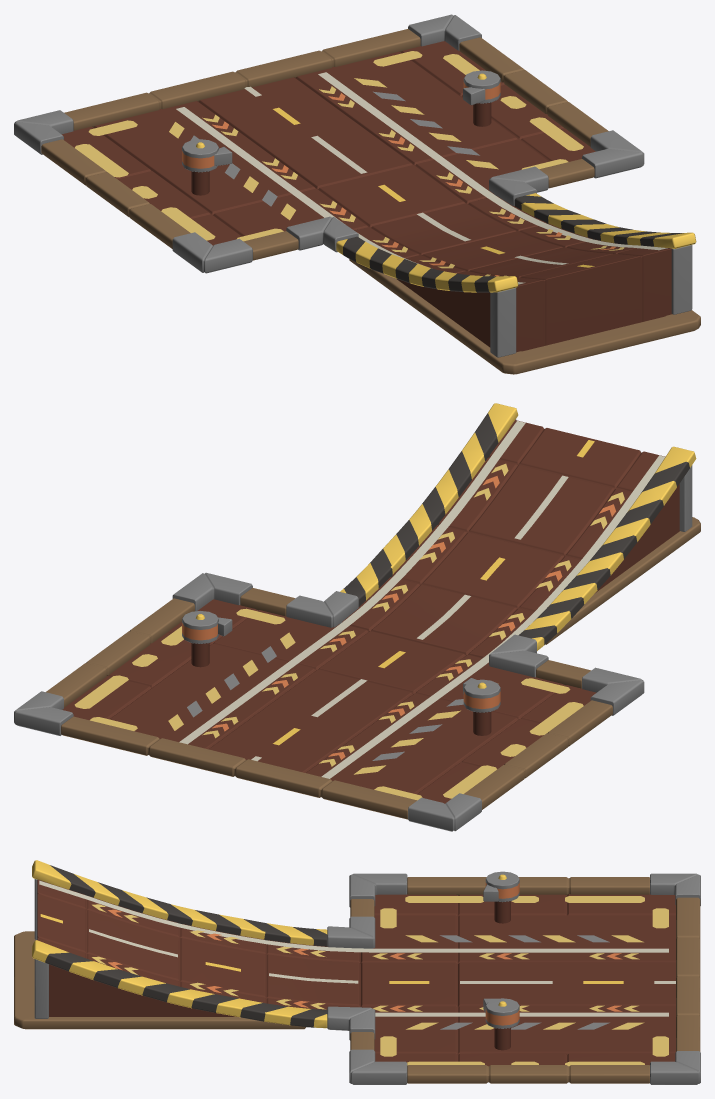
File: Launcher3.fbx
3 renders of one model, top to bottom at view 1: azimuth 30°, elevation 25°; view 2: azimuth 150°, elevation 25°; view 3: azimuth 270°, elevation 25°, orthographic. The views are drawn at different scales.
Visible parts, largest first — view 1: Launcher3; view 2: Launcher3; view 3: Launcher3.
Boxes of the visible parts, box(x1,y1,x2,y2) form: Launcher3: box(14, 14, 700, 374); Launcher3: box(14, 403, 700, 831); Launcher3: box(14, 860, 700, 1084).
Size of the model in its own units: 60.22 by 13.37 by 87.84.
Materials: 1 (1 with a texture image).
